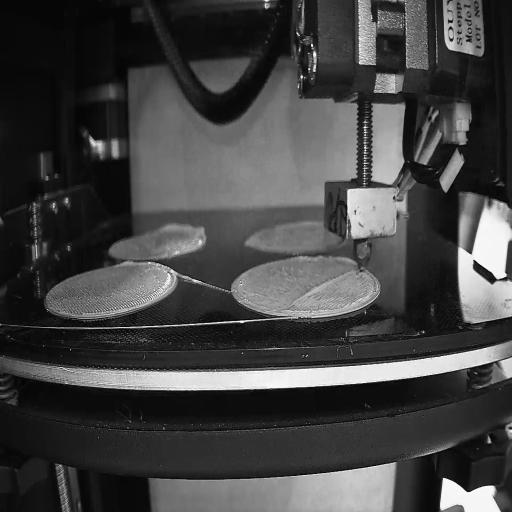over_extrusion: (288, 270, 356, 308), (160, 222, 207, 241), (117, 259, 132, 269)
